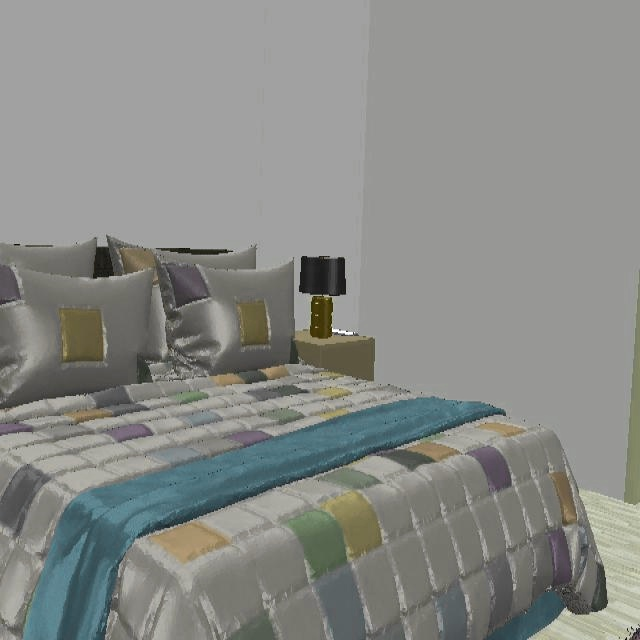bed: (0, 363, 609, 640)
book: (333, 328, 358, 336)
lamp: (299, 256, 346, 339)
nighttable: (295, 328, 375, 380)
pillow: (0, 265, 154, 409), (107, 235, 256, 361), (154, 251, 296, 377), (0, 237, 98, 279)
